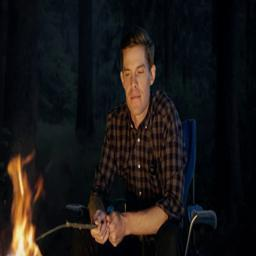fire: (5, 149, 45, 256)
